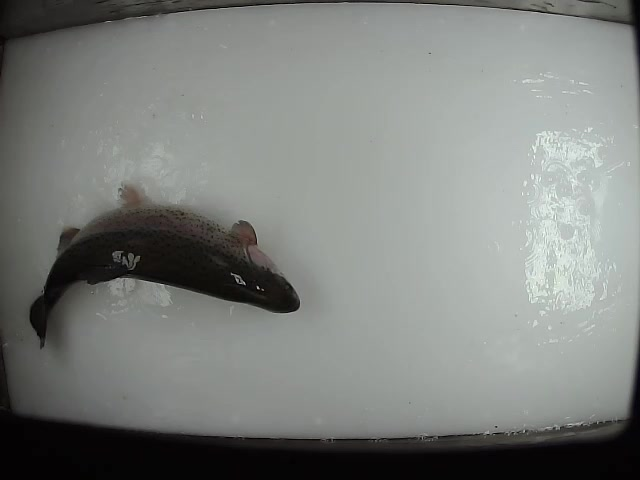fish: (25, 177, 301, 361)
